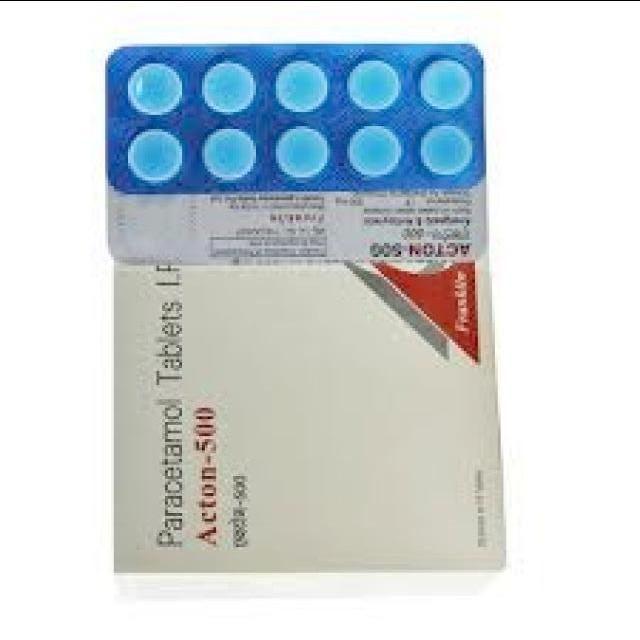authentic: (102, 253, 507, 609), (98, 32, 496, 270)
